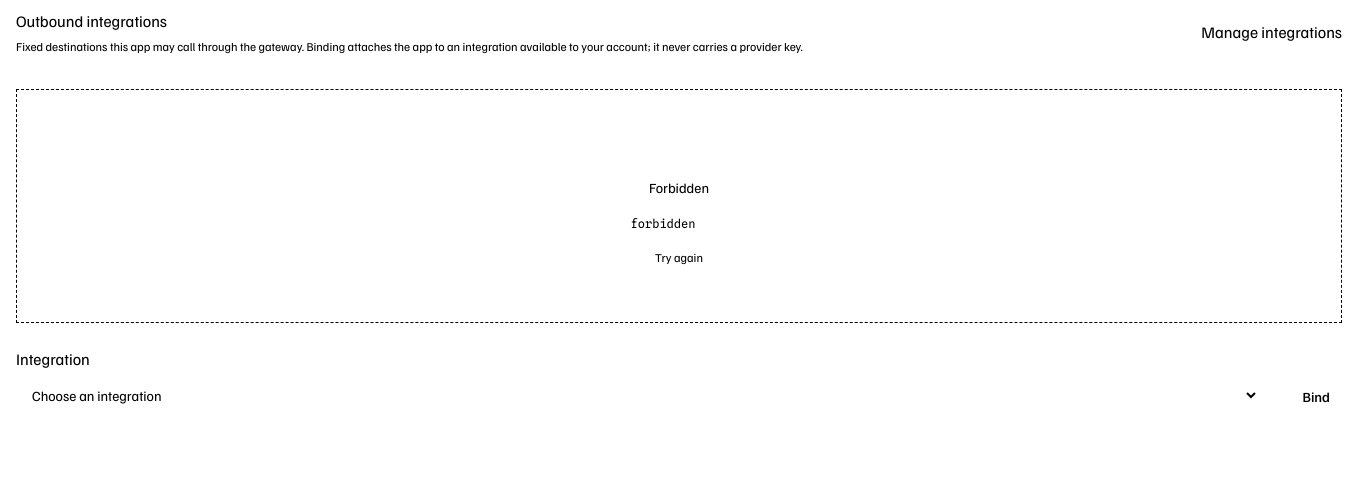
it: App outbound integrations › reports a failed read with a retry instead of an empty list
This screenshot has width=1359, height=493.
Expected: the message "Forbidden forbidden Try again" is shown, [16,89,1342,323]
What coordinates should you click on to do the following:
click the button "Try again"
I would click on:
 (679, 258)
Its box is [655,250,703,266].
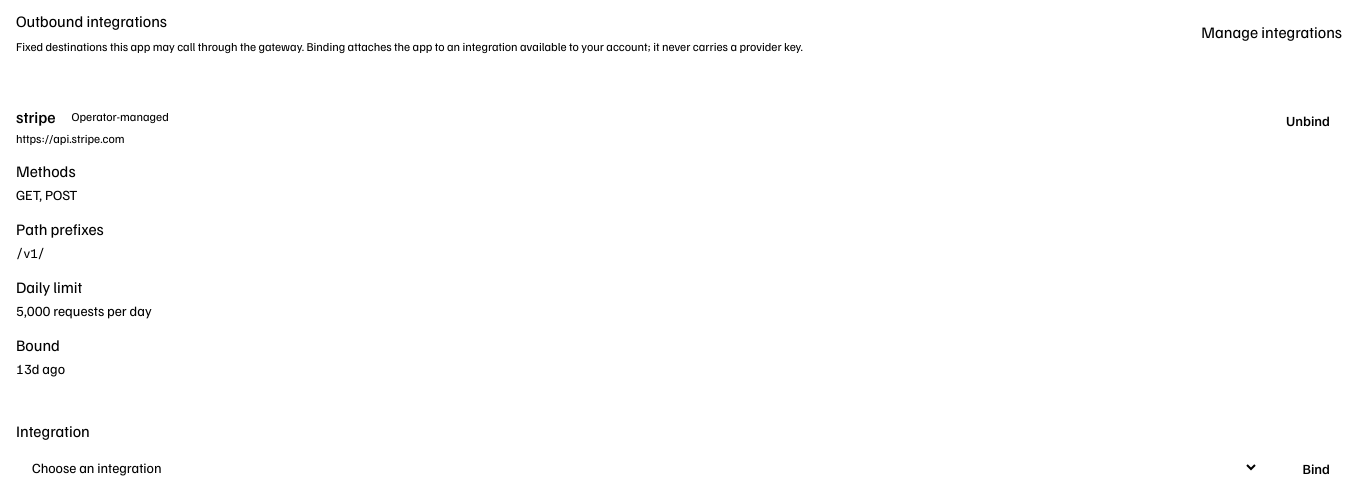
Result: the heading "stripe" is shown at [16,105,56,129]
